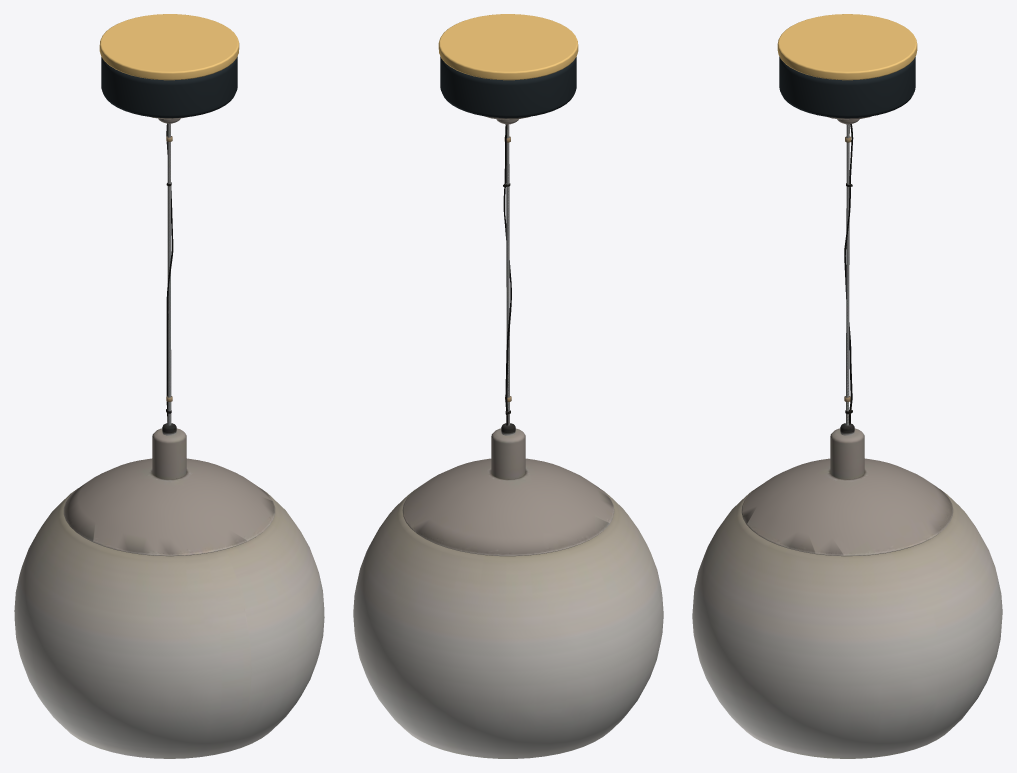
The model's file is hp_l2_cc0_ceiling_lamp_polyhaven_v1.glb.
3 views of the same model, side by side, from view 1: azimuth 30°, elevation 25°; view 2: azimuth 150°, elevation 25°; view 3: azimuth 270°, elevation 25° (orthographic).
Visible parts, largest first — view 1: cc0_source_modern_ceiling_lamp_01, hp_ceiling_mount_brass_lip, hp_ceiling_mount_dark_cap; view 2: cc0_source_modern_ceiling_lamp_01, hp_ceiling_mount_brass_lip, hp_ceiling_mount_dark_cap; view 3: cc0_source_modern_ceiling_lamp_01, hp_ceiling_mount_brass_lip, hp_ceiling_mount_dark_cap.
Boxes of the visible parts, box(x1,y1,x2,y2) form: cc0_source_modern_ceiling_lamp_01: box(14, 117, 324, 758); hp_ceiling_mount_brass_lip: box(99, 14, 239, 80); hp_ceiling_mount_dark_cap: box(101, 56, 237, 118); cc0_source_modern_ceiling_lamp_01: box(353, 116, 663, 758); hp_ceiling_mount_brass_lip: box(438, 14, 578, 80); hp_ceiling_mount_dark_cap: box(440, 56, 576, 118); cc0_source_modern_ceiling_lamp_01: box(692, 116, 1002, 758); hp_ceiling_mount_brass_lip: box(777, 14, 917, 80); hp_ceiling_mount_dark_cap: box(779, 56, 915, 118).
Bounding box in the file's own units: 0.3901 × 0.928 × 0.3901.
5 materials, 2 textured.
